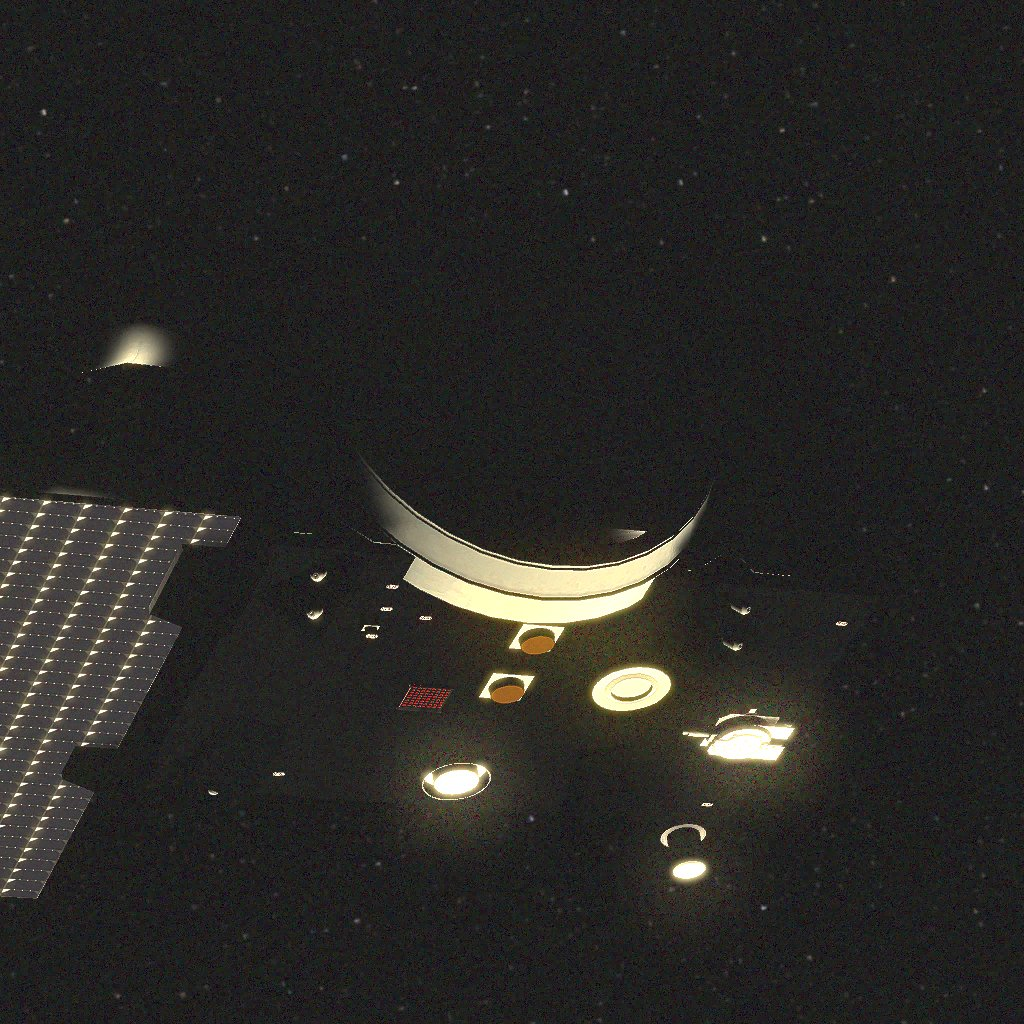proba_3_csc: (0, 224, 880, 898)
